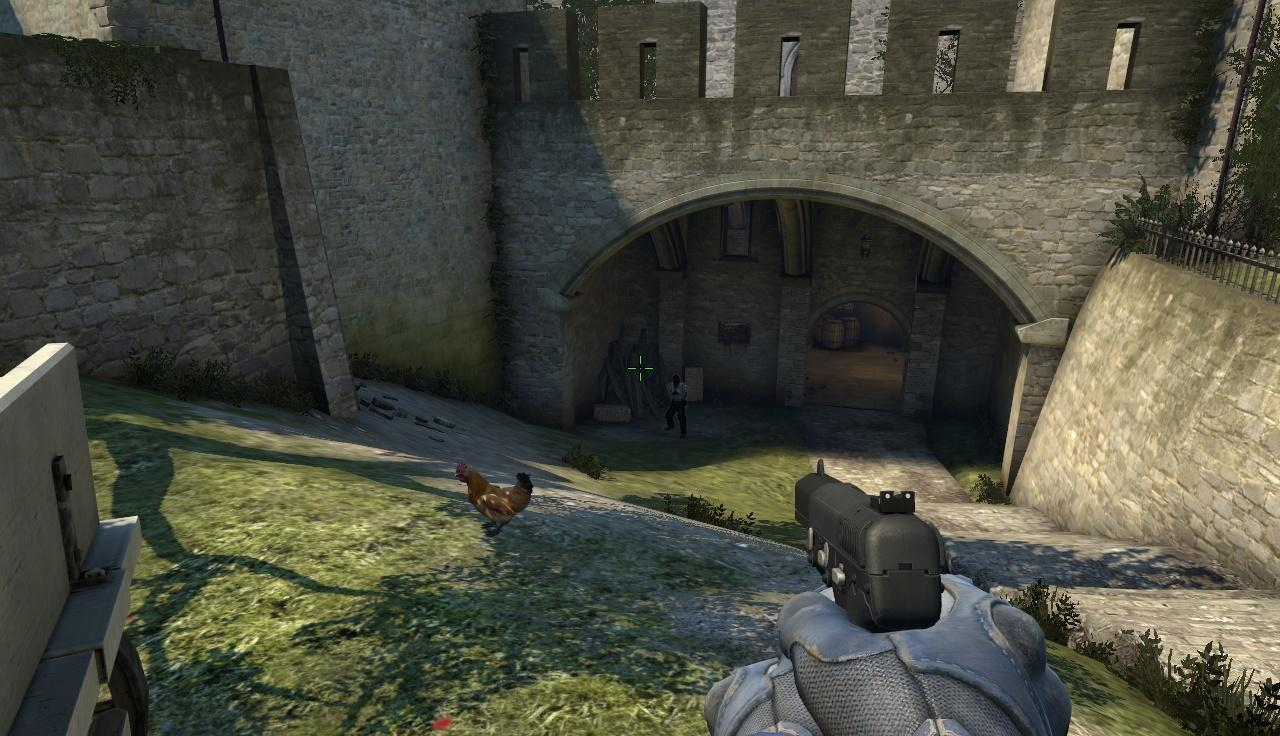pistol: (782, 457, 1072, 736)
tt: (667, 374, 686, 439)
tthead: (673, 375, 679, 386)
